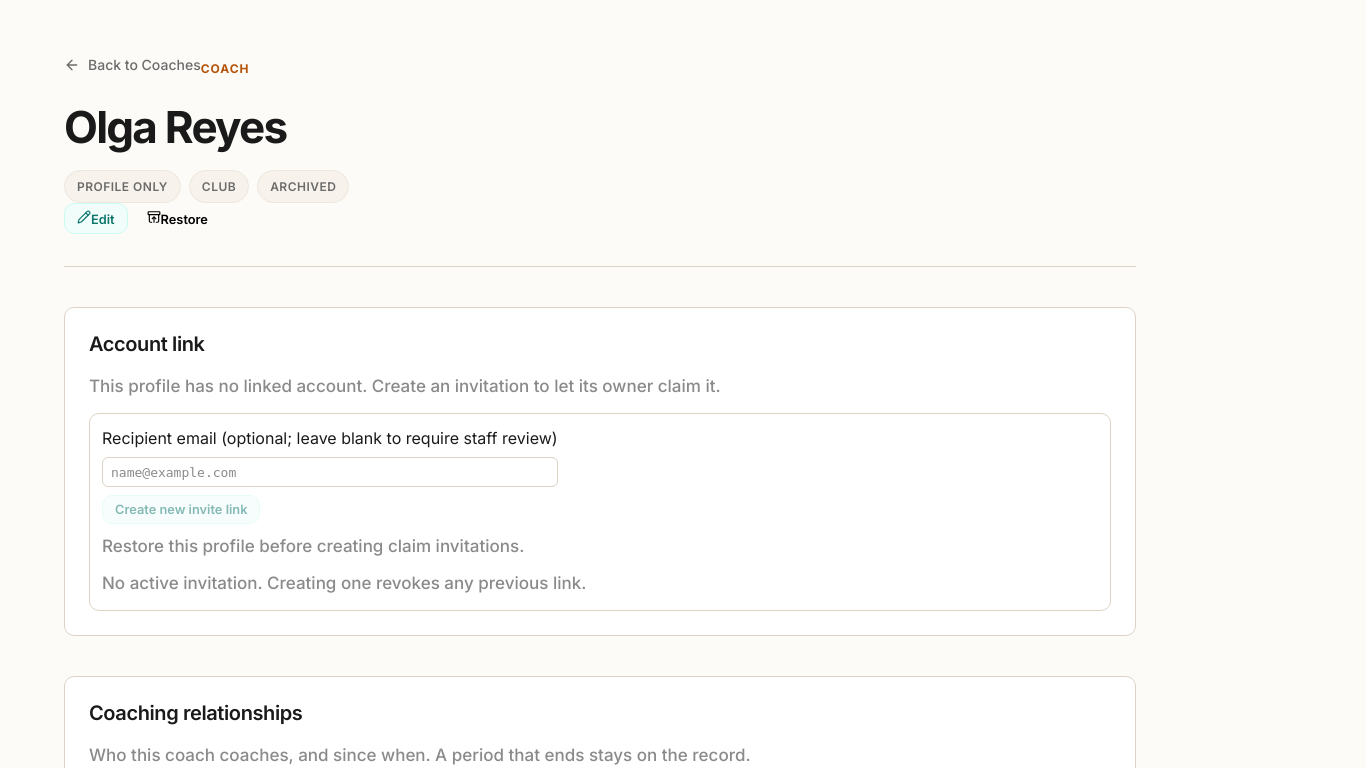
Test case: CoachDetail › restores an archived coach
expect the text "Archived" is shown: met, box top-left (257, 170), bottom-right (349, 203)
Click the button "Restore" at {"x": 177, "y": 218}, box top-left (134, 203), bottom-right (221, 234)
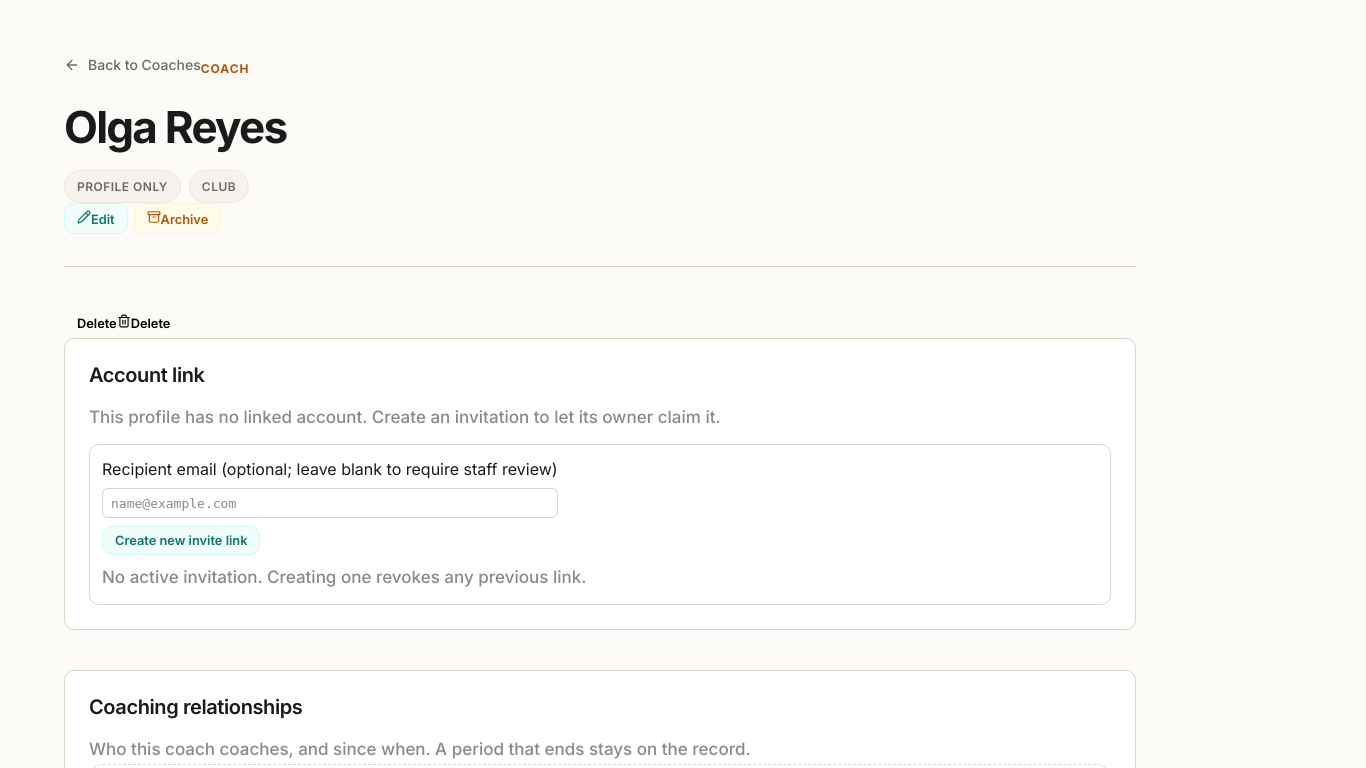
expect the button "Archive" is shown: met, box top-left (134, 203), bottom-right (221, 234)
